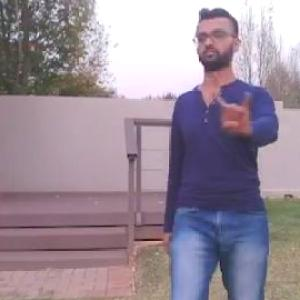takeoff-hand: (211, 82, 261, 139)
